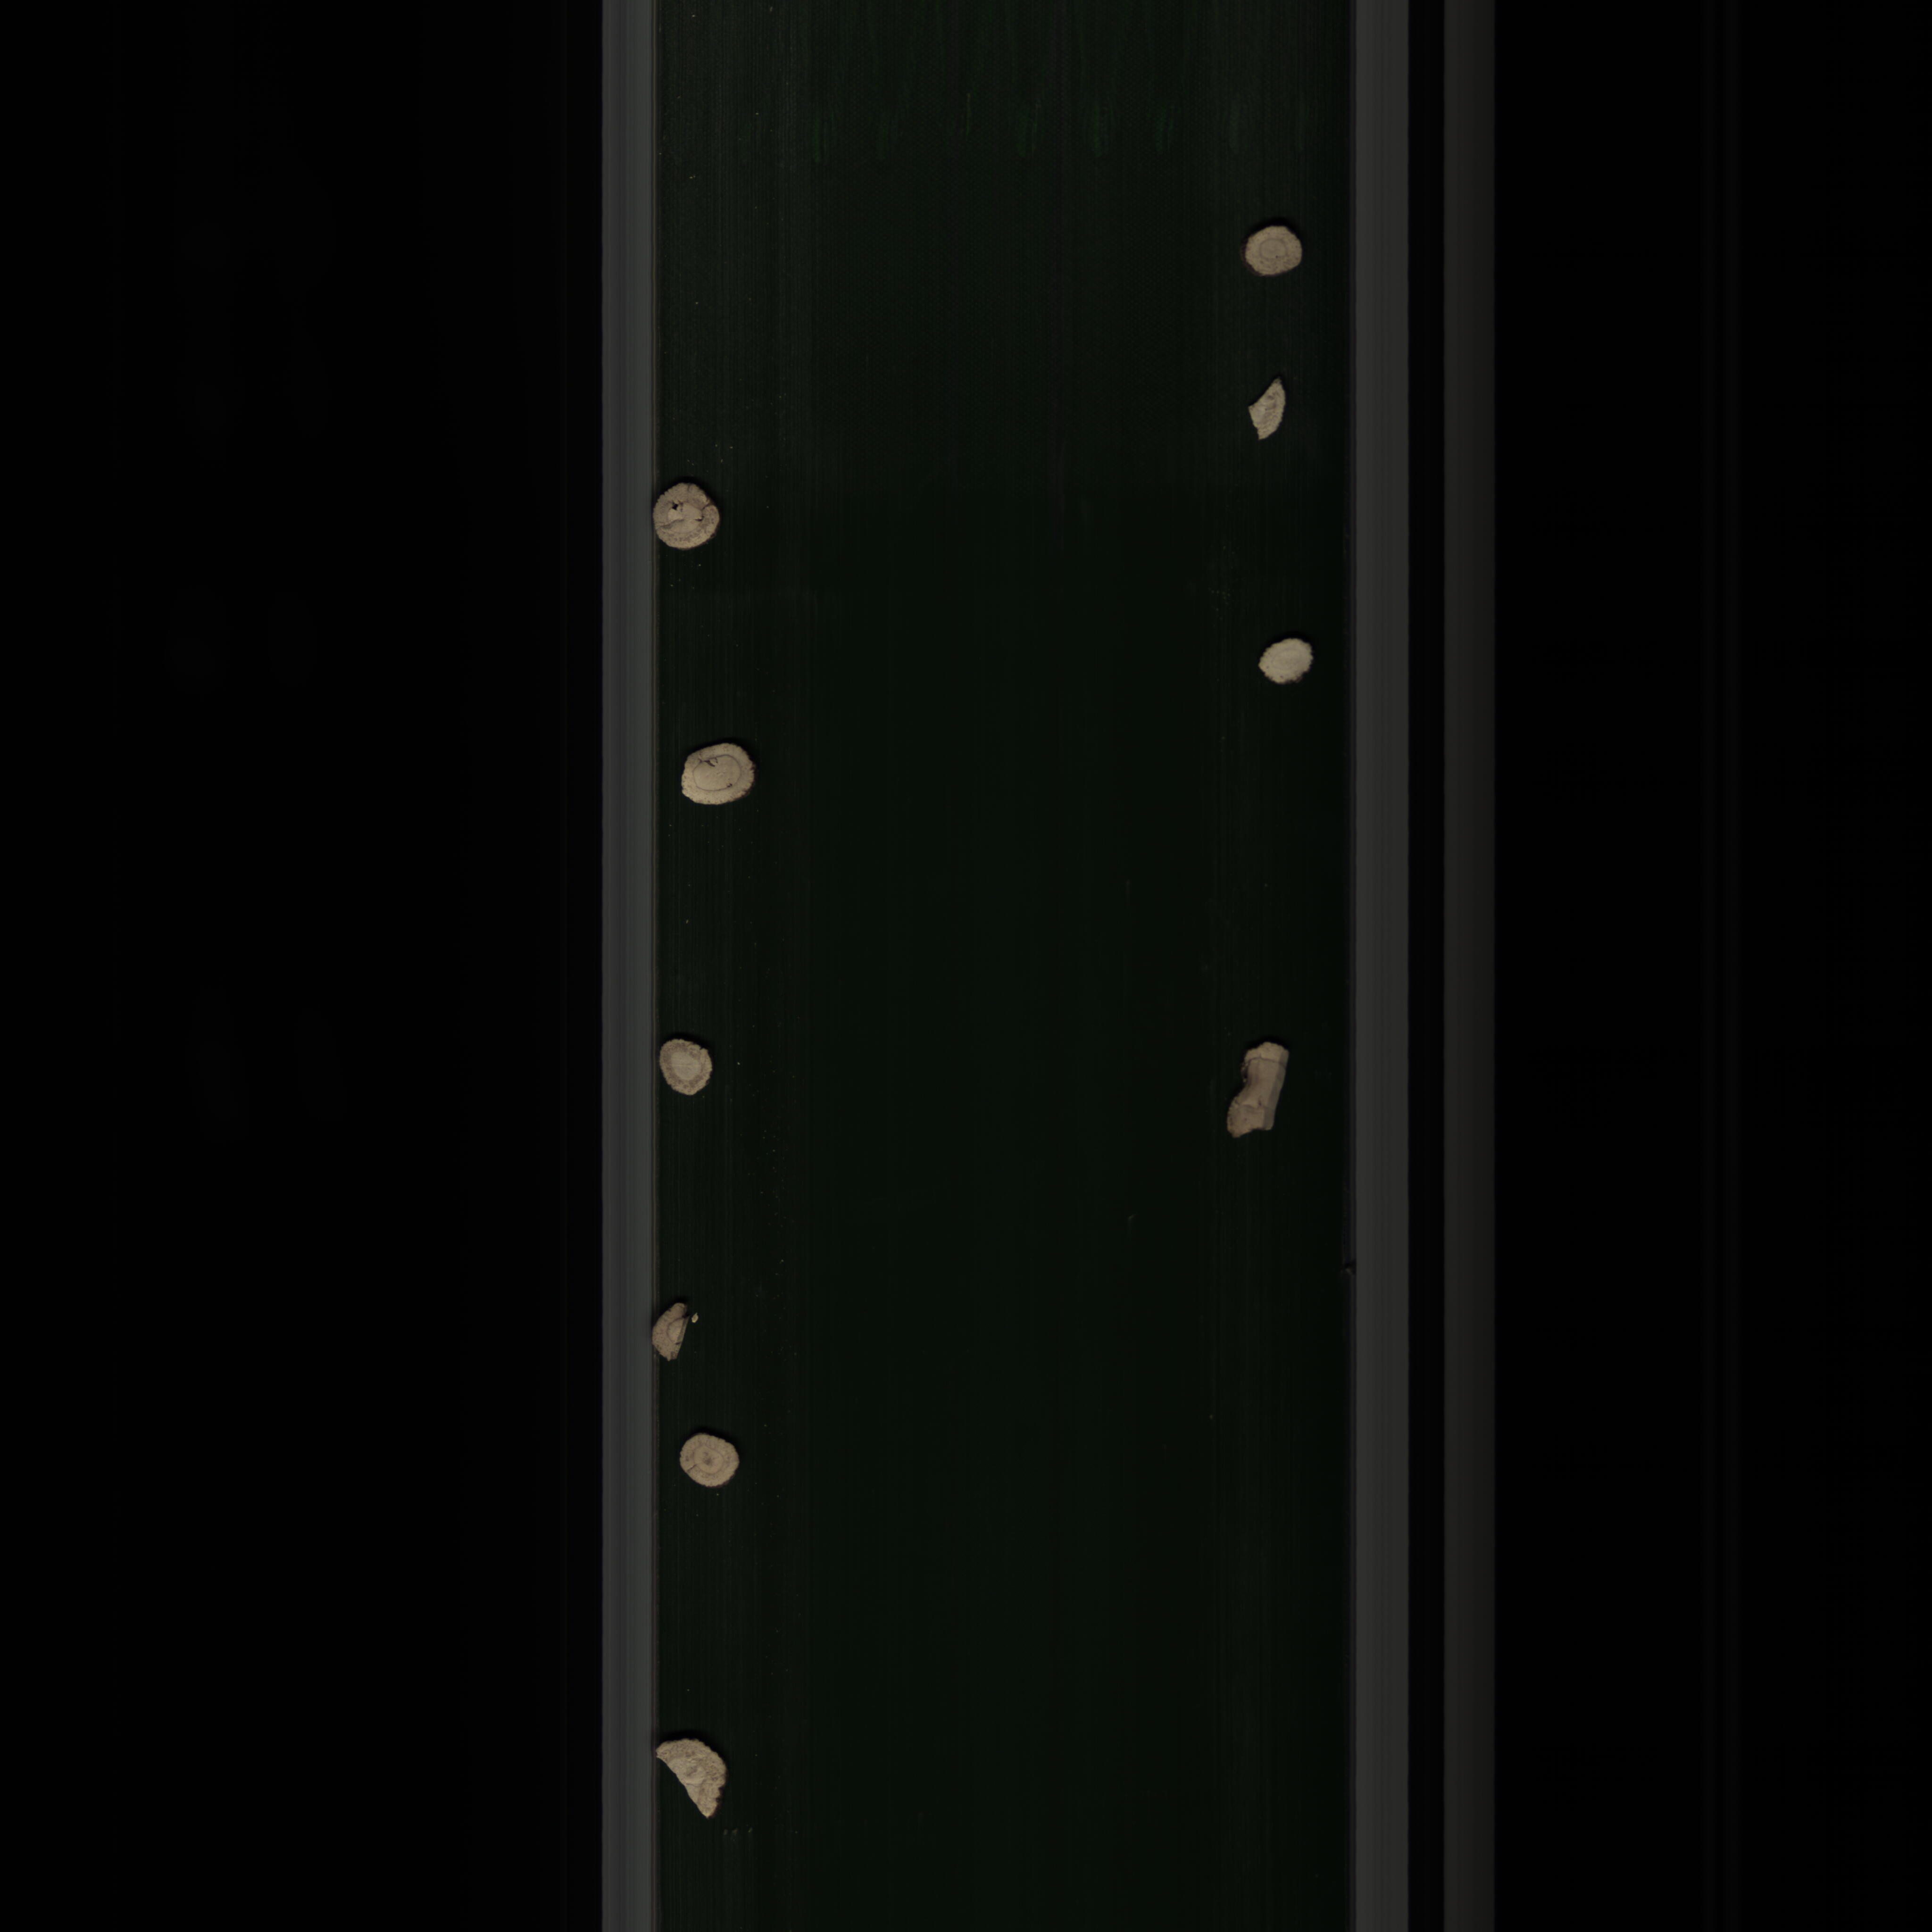debris: (1223, 1035, 1295, 1164), (653, 1725, 741, 1828), (1228, 372, 1293, 439), (651, 1292, 702, 1368)
hole: (651, 476, 734, 563)
